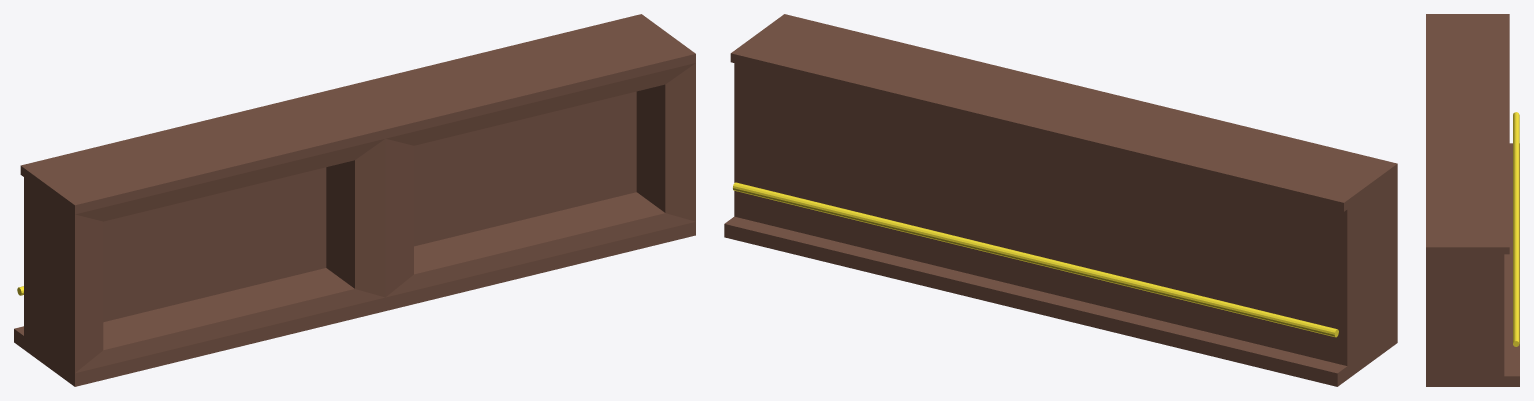
The model's file is Bar Counter.fbx.
The picture shows the model from 3 angles, left to right: view 1: azimuth 30°, elevation 25°; view 2: azimuth 150°, elevation 25°; view 3: azimuth 270°, elevation 25°; orthographic projection. The views are drawn at different scales.
Visible parts, largest first — view 1: group1072627430; view 2: group1072627430; view 3: group1072627430.
Part boxes in pixels (x1,y1,x2,y2): group1072627430: [14, 14, 695, 386]; group1072627430: [724, 14, 1397, 386]; group1072627430: [1426, 14, 1519, 386].
Bounding box in the file's own units: 712 × 199 × 121.
